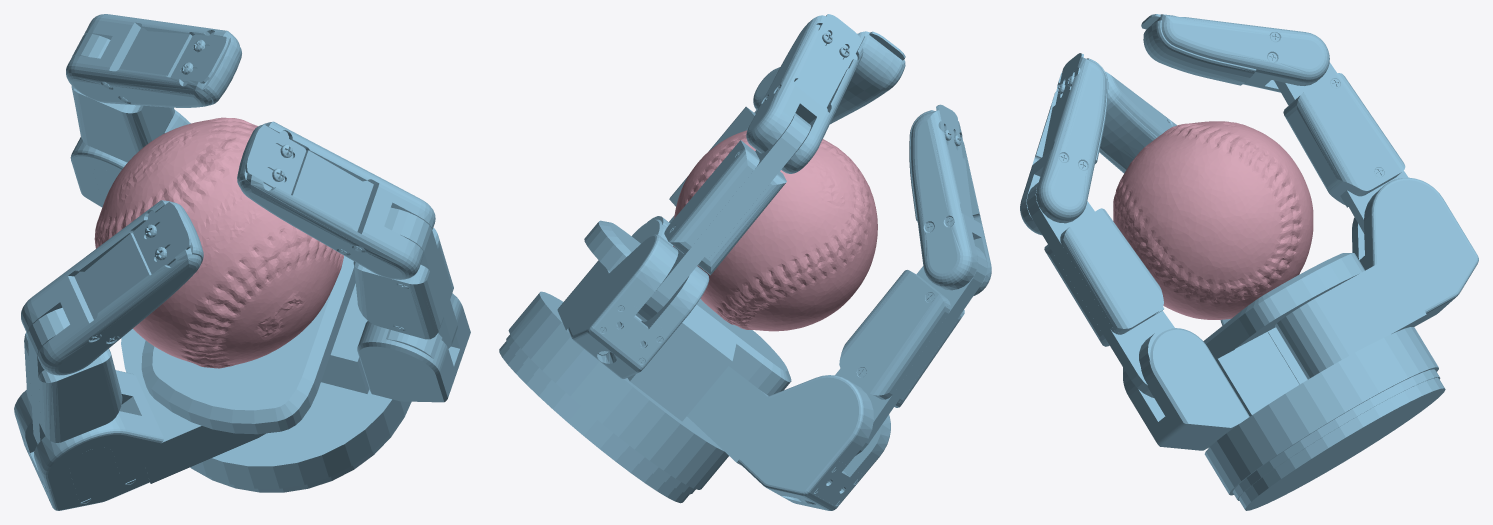
3 renders of one model, left to right at view 1: azimuth 30°, elevation 25°; view 2: azimuth 150°, elevation 25°; view 3: azimuth 270°, elevation 25°, orthographic. The views are drawn at different scales.
Visible parts, largest first — view 1: world, baseball.stl; view 2: world, baseball.stl; view 3: world, baseball.stl.
Boxes of the visible parts, x1,y1,x2,y2 form: world: [14, 14, 470, 510]; baseball.stl: [94, 117, 343, 368]; world: [499, 14, 991, 510]; baseball.stl: [673, 130, 877, 331]; world: [1020, 14, 1478, 510]; baseball.stl: [1113, 121, 1313, 319].
Bounding box in the file's own units: 0.1606 × 0.1764 × 0.1663.
